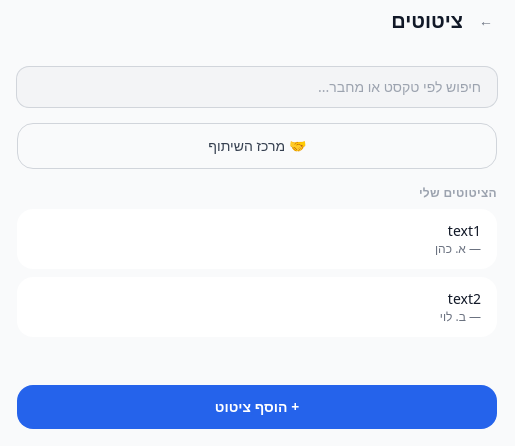
CitationsScreen › filters by author in real time
The width and height of the screenshot is (515, 446).
Type "כהן" into the field with placeholder "חיפוש לפי טקסט או מחבר..." at (257, 87), box [17, 67, 497, 107]
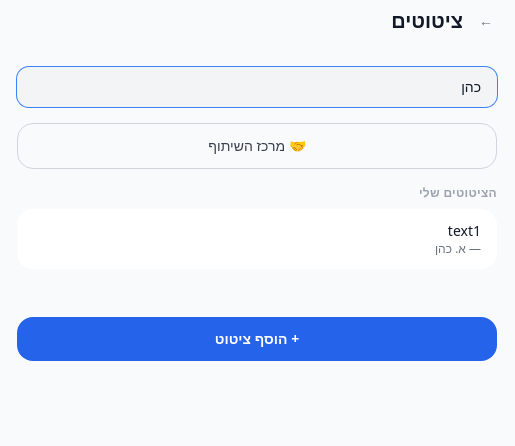
Expected: the text "text1" is shown, [448, 221, 481, 240]
Now the button "text2" is gone
